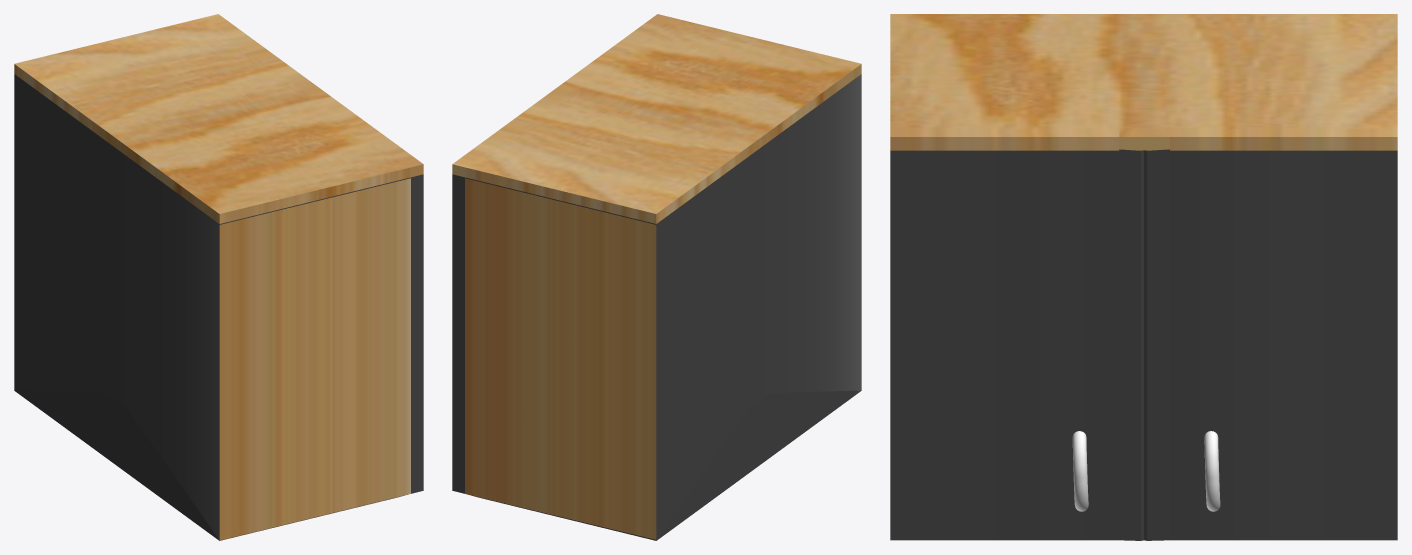
Rendered from SzafkaKuchennaNaSciane.fbx.
3 views of the same model, side by side, from view 1: azimuth 30°, elevation 25°; view 2: azimuth 150°, elevation 25°; view 3: azimuth 270°, elevation 25° (orthographic). The views are drawn at different scales.
Visible parts, largest first — view 1: Cube.001; view 2: Cube.001; view 3: Cube.001, Cylinder.001, Cylinder.
Part boxes in pixels (x1,y1,x2,y2): Cube.001: (14, 14, 423, 540); Cube.001: (452, 14, 861, 540); Cube.001: (890, 14, 1397, 540); Cylinder.001: (1204, 431, 1220, 511); Cylinder: (1072, 431, 1088, 511).
Bounding box in the file's own units: 250 × 351 × 400.
